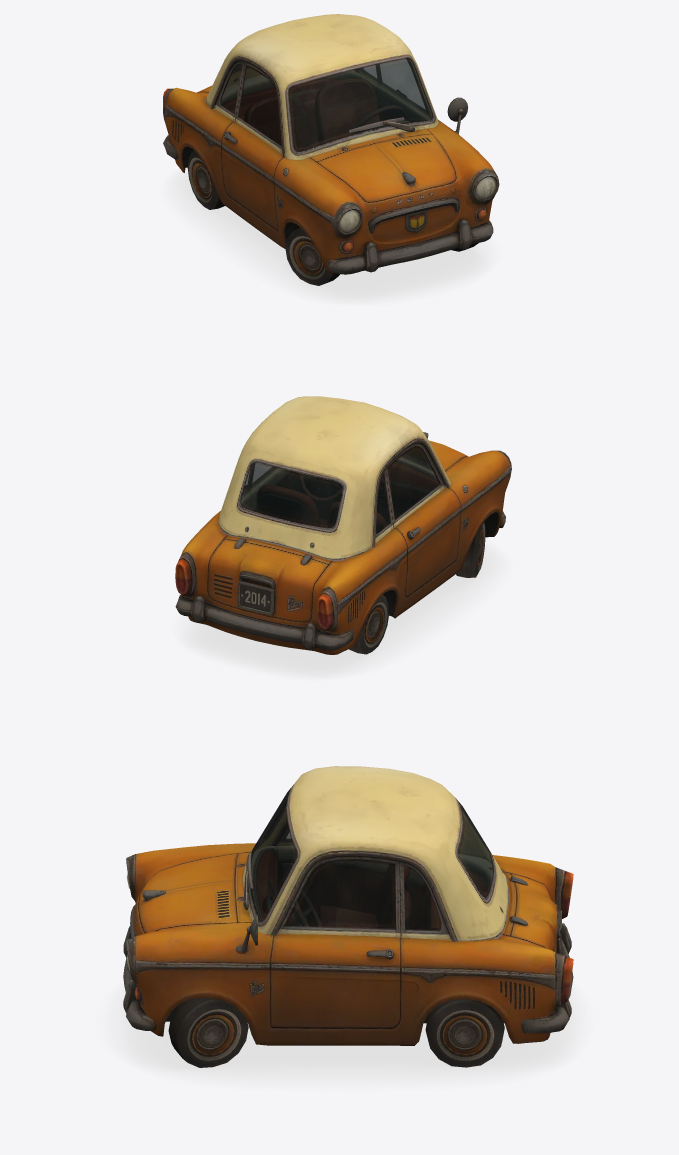
Rendered from pony_cartoon-transformed.glb.
3 renders of one model, top to bottom at view 1: azimuth 30°, elevation 25°; view 2: azimuth 150°, elevation 25°; view 3: azimuth 270°, elevation 25°, orthographic. The views are drawn at different scales.
Visible parts, largest first — view 1: Object_2, Object_3, Object_5, Object_4; view 2: Object_2, Object_3, Object_5, Object_4; view 3: Object_2, Object_3, Object_5, Object_4.
Part boxes in pixels (x1,y1,x2,y2): Object_2: (163, 14, 499, 285); Object_3: (164, 168, 497, 304); Object_5: (220, 58, 433, 152); Object_4: (222, 70, 430, 151); Object_2: (175, 396, 511, 654); Object_3: (175, 540, 509, 679); Object_5: (240, 446, 440, 534); Object_4: (241, 458, 438, 533); Object_2: (123, 766, 573, 1067); Object_3: (103, 984, 587, 1088); Object_5: (251, 788, 493, 930); Object_4: (251, 846, 492, 930).
Bounding box in the file's own units: 2.89 × 1.34 × 3.43.
Materials: 4 (4 with a texture image).
